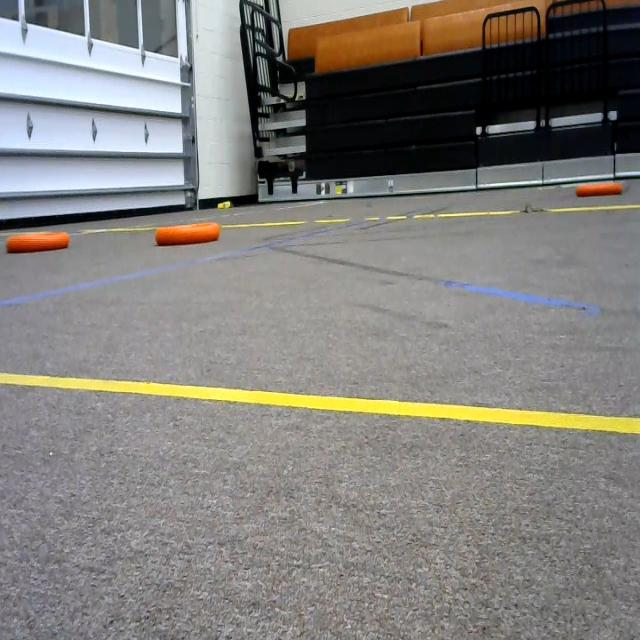note: (4, 226, 75, 263), (152, 217, 222, 251), (573, 178, 627, 198)
